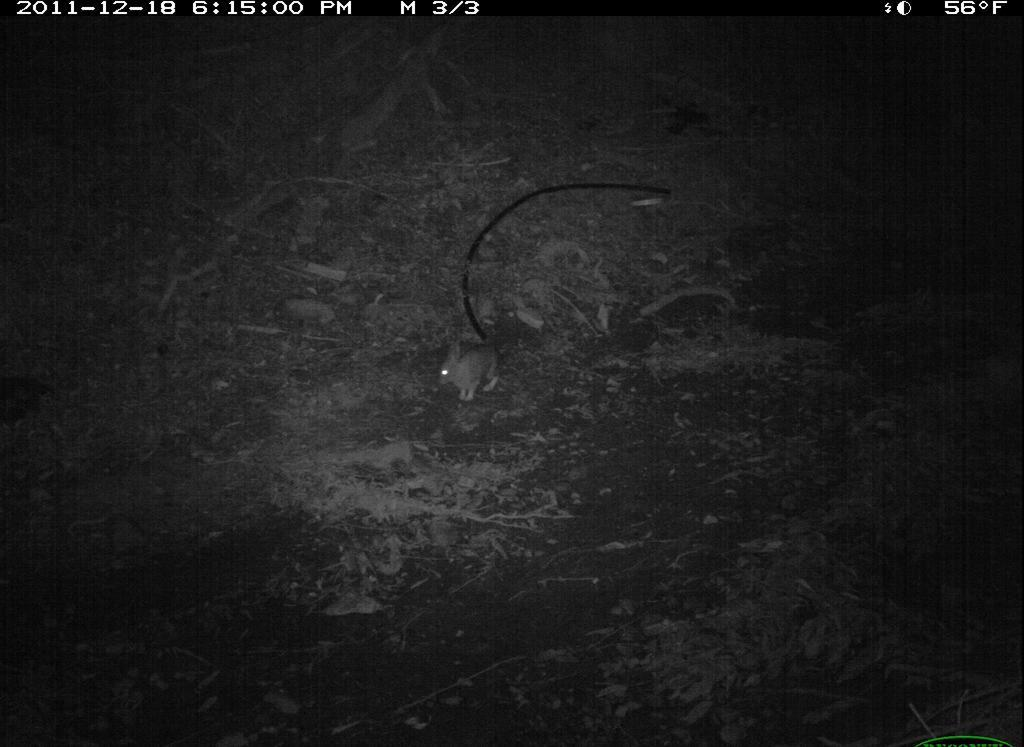rabbit: (433, 332, 511, 408)
